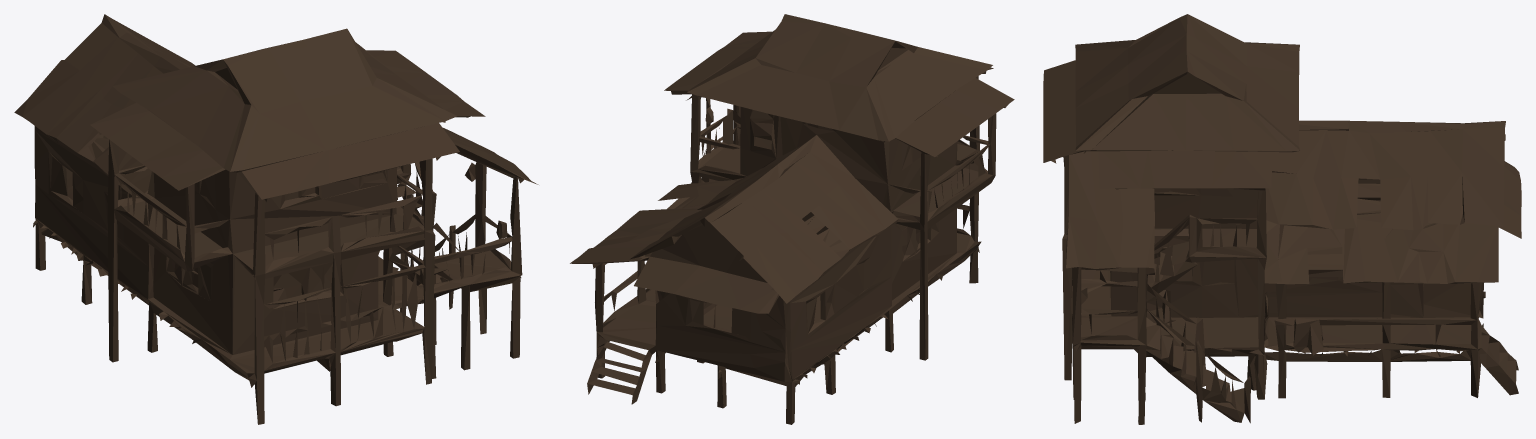
The model's file is rusty-house.zfix-v9.lod1.glb.
3 views of the same model, side by side, from view 1: azimuth 30°, elevation 25°; view 2: azimuth 150°, elevation 25°; view 3: azimuth 270°, elevation 25° (orthographic). The views are drawn at different scales.
Parts seen in each view (by area): view 1: Object_4; view 2: Object_4; view 3: Object_4.
Boxes of the visible parts, x1,y1,x2,y2 form: Object_4: [14, 14, 538, 424]; Object_4: [570, 14, 1014, 424]; Object_4: [1043, 14, 1521, 424].
Size of the model in its own units: 7.95 by 6.92 by 9.99.
